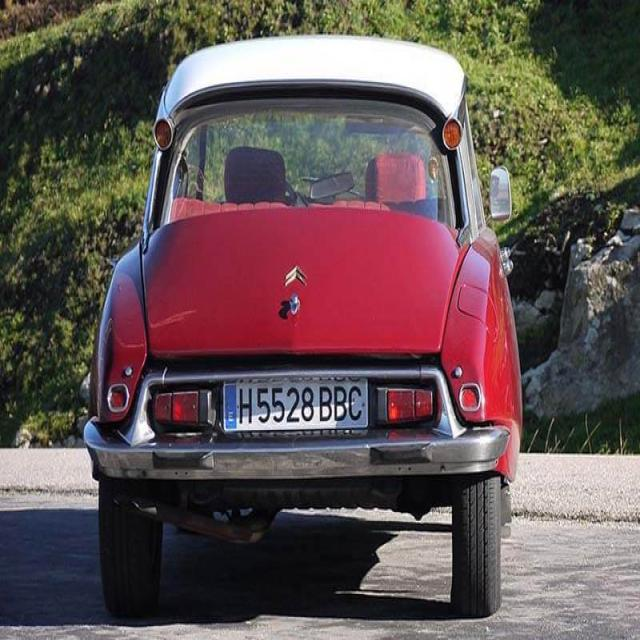license_plate-34Td: (222, 378, 367, 431)
